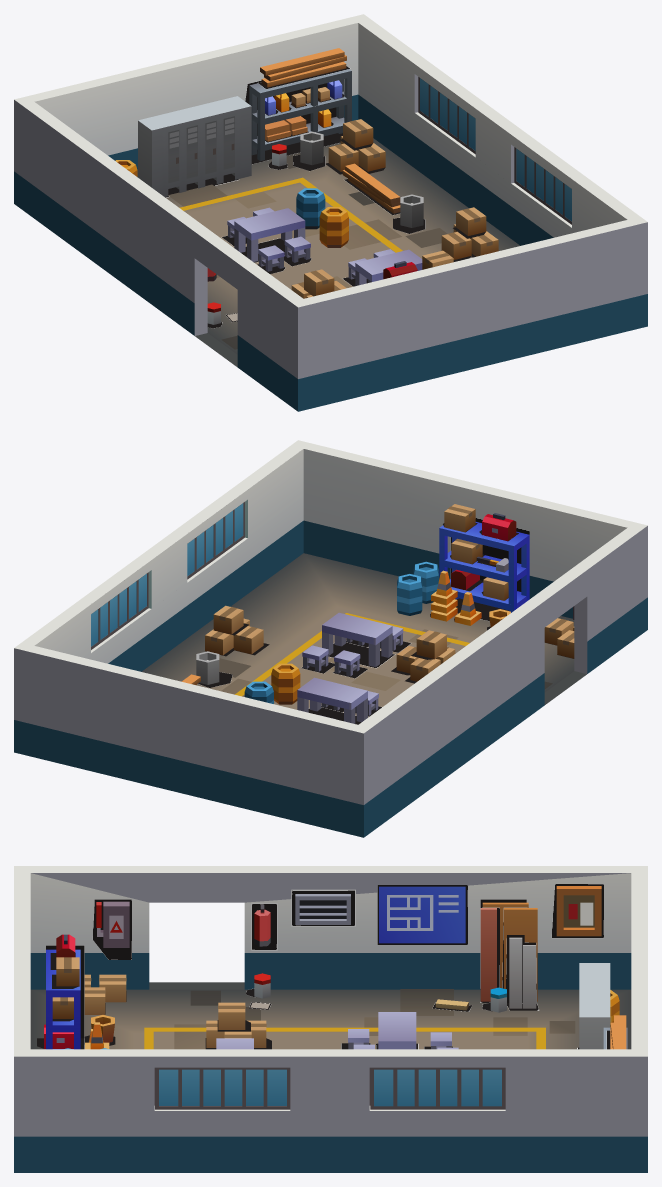
The model's file is store room.fbx.
3 renders of one model, top to bottom at view 1: azimuth 30°, elevation 25°; view 2: azimuth 150°, elevation 25°; view 3: azimuth 270°, elevation 25°, orthographic. The views are drawn at different scales.
Parts seen in each view (by area): view 1: wall store room, store room assets, store room base; view 2: wall store room, store room assets, store room base; view 3: wall store room, store room assets, store room base.
Boxes of the visible parts, bbox=[...] form: wall store room: bbox=[14, 14, 647, 411]; store room assets: bbox=[115, 48, 571, 328]; store room base: bbox=[166, 138, 520, 367]; wall store room: bbox=[14, 440, 647, 837]; store room assets: bbox=[91, 502, 574, 724]; store room base: bbox=[141, 553, 586, 717]; wall store room: bbox=[14, 866, 647, 1172]; store room assets: bbox=[37, 884, 627, 1109]; store room base: bbox=[30, 982, 631, 1049].
Bounding box in the file's own units: 945 × 1329 × 269.
Materials: 2 (2 with a texture image).
